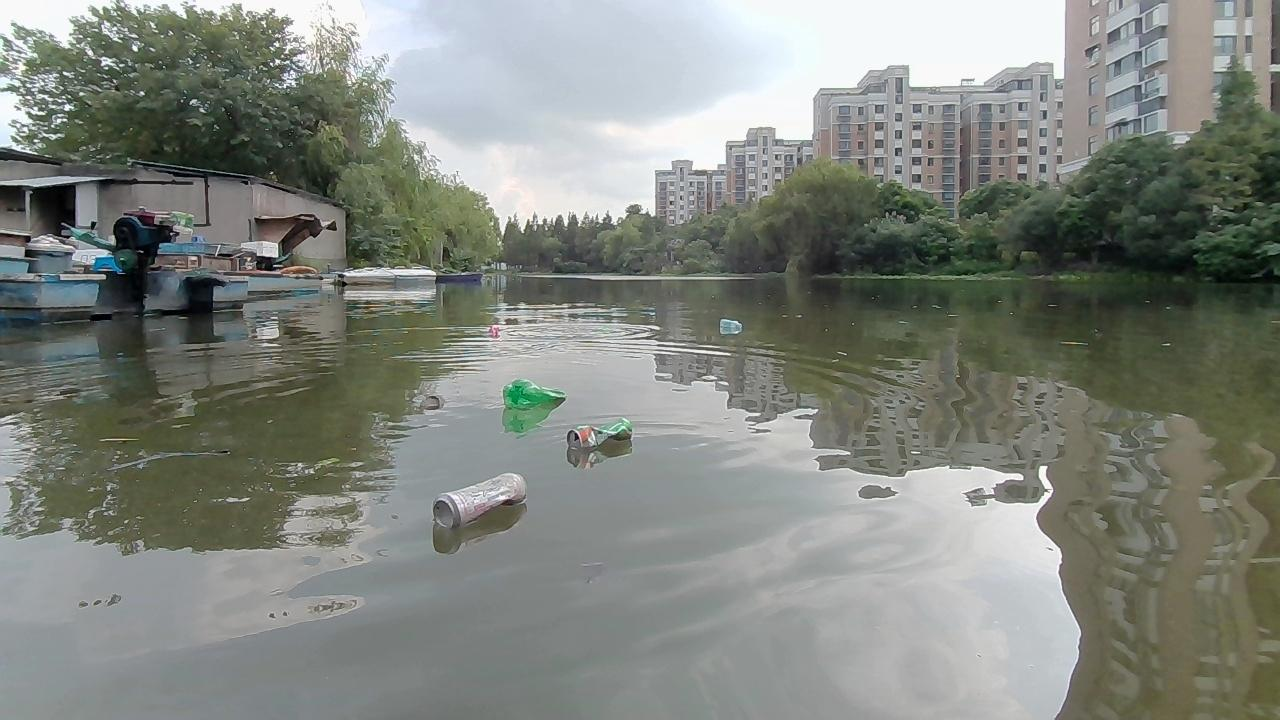Metal: (431, 471, 529, 530), (566, 417, 634, 453)
Plastic: (501, 378, 567, 411), (719, 318, 743, 328)
